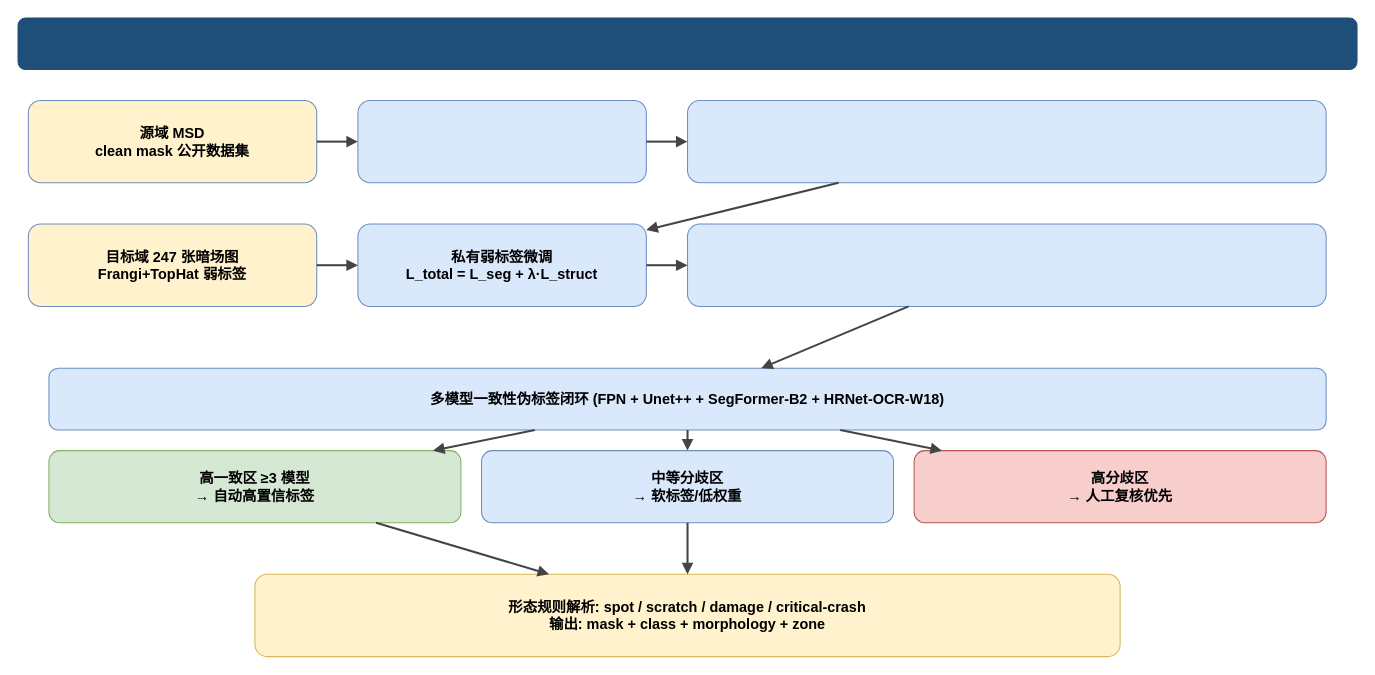
This 1375x675 diagram has some shape labels left out. The centre of each missing label's shape, as x and y in pixels:
"分割主线双源域训练范式 + 多模型一致性伪标签闭环" goes at [687,43].
"排名: FPN(0.8787) ≈ DLv3+(0.8669) > Unet++(0.4191) > LightUNet" goes at [1006,141].
"排名: Unet++ loss 0.2756 最低; FPN 物理量稳定性最好" goes at [1006,264].
"源域结构对照预训练 50 epoch" goes at [501,141].
